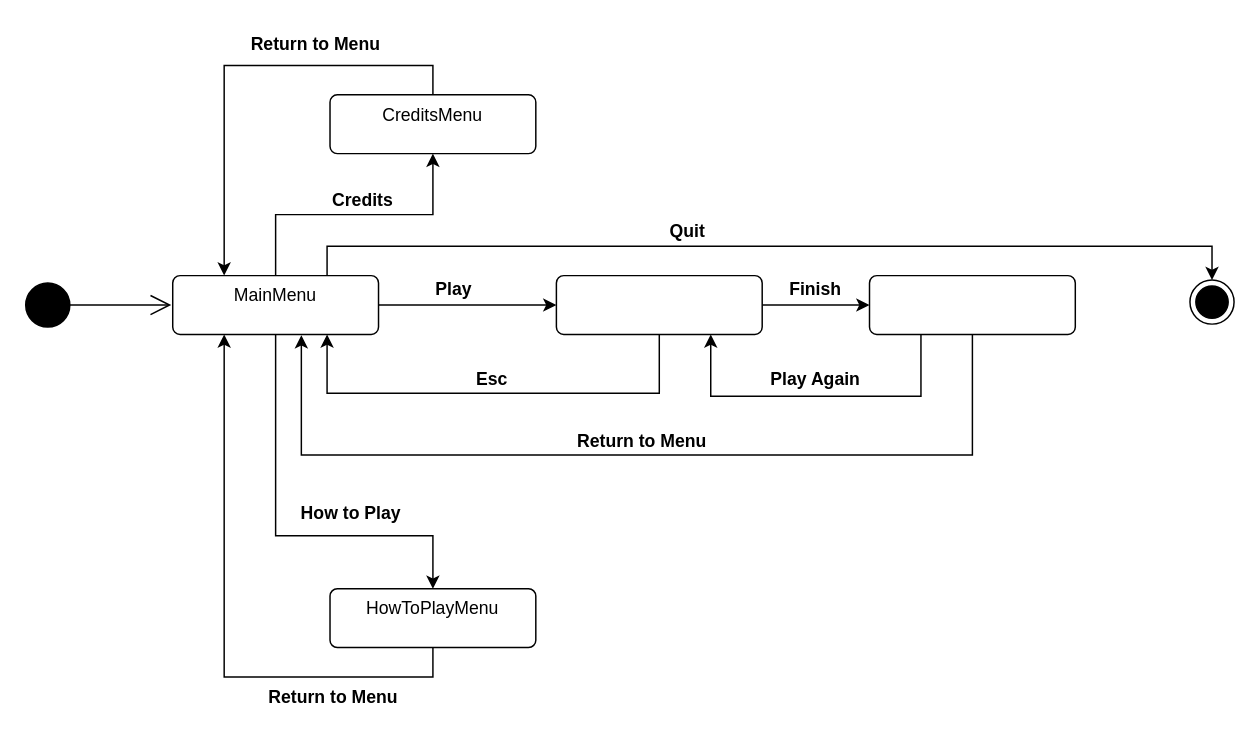
Image size: 1260x741. Some labels were removed from this diagram. Here are the shapes that lost their labels. From the top down, the box of each, then its label:
(555, 274, 762, 334): Game
(868, 274, 1075, 334): GameOver
